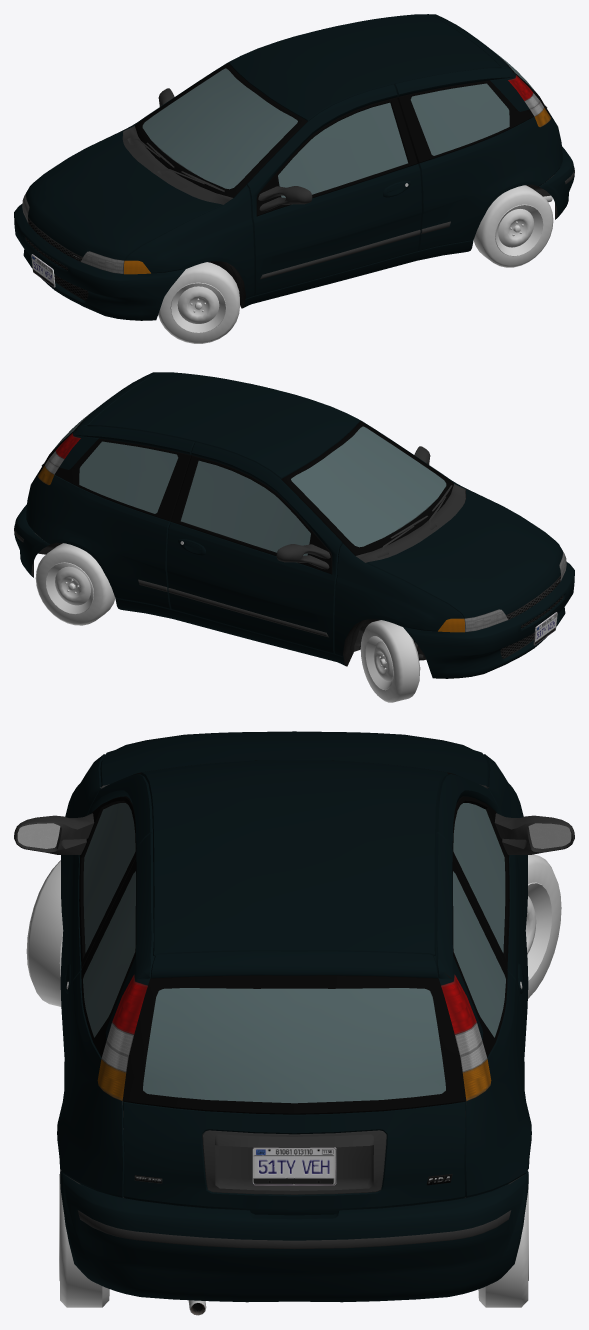
Rendered from MILANO95.fbx.
The picture shows the model from 3 angles, top to bottom: view 1: azimuth 30°, elevation 25°; view 2: azimuth 150°, elevation 25°; view 3: azimuth 270°, elevation 25°; orthographic projection. The views are drawn at different scales.
Parts seen in each view (by area): view 1: Body, Door_FL, Hood, Windshield, Door_Glass_FL, Bumper_front, Bottom, Wheel_FL, Body_glass, Wheel_RL, Door_inner_FL, Sweepers (+5 smaller); view 2: Body, Door_FR, Hood, Windshield, Door_Glass_FR, Bumper_front, Bottom, Body_glass, Wheel_RR, Wheel_FR, Door_inner_FR, Sweepers (+5 smaller); view 3: Body, Bumper_rear, Trunkdoor_Glass, Trunkdoor, Trunkdoor_inner, Hood, Body_glass, Door_Glass_FL, Door_Glass_FR, Door_FL, Door_FR, Door_inner_FL (+11 smaller).
Part boxes in pixels (<box>): Body: <box>37,14,562,307</box>; Door_FL: <box>246,84,421,295</box>; Hood: <box>25,132,222,260</box>; Windshield: <box>142,68,297,189</box>; Door_Glass_FL: <box>278,102,407,197</box>; Bumper_front: <box>14,204,185,320</box>; Bottom: <box>135,63,553,308</box>; Wheel_FL: <box>158,262,239,343</box>; Body_glass: <box>410,83,509,155</box>; Wheel_RL: <box>473,185,553,267</box>; Door_inner_FL: <box>256,97,420,279</box>; Sweepers: <box>123,126,232,204</box>; Body: <box>26,372,551,665</box>; Door_FR: <box>167,442,342,653</box>; Hood: <box>366,490,563,618</box>; Windshield: <box>291,426,446,547</box>; Door_Glass_FR: <box>181,460,310,555</box>; Bumper_front: <box>403,562,574,678</box>; Bottom: <box>35,421,453,666</box>; Body_glass: <box>79,441,178,513</box>; Wheel_RR: <box>35,543,115,625</box>; Wheel_FR: <box>360,620,420,702</box>; Door_inner_FR: <box>168,455,332,637</box>; Sweepers: <box>356,484,465,562</box>; Body: <box>57,754,531,1197</box>; Bumper_rear: <box>60,1171,528,1302</box>; Trunkdoor_Glass: <box>143,988,445,1103</box>; Trunkdoor: <box>123,951,465,1215</box>; Trunkdoor_inner: <box>122,975,466,1194</box>; Hood: <box>100,731,488,786</box>; Body_glass: <box>83,871,505,1037</box>; Door_Glass_FL: <box>83,803,135,952</box>; Door_Glass_FR: <box>453,803,505,952</box>; Door_FL: <box>60,774,152,1056</box>; Door_FR: <box>436,774,528,1056</box>; Door_inner_FL: <box>14,796,136,989</box>.
Size of the model in its own units: 152 by 75.98 by 56.44.
